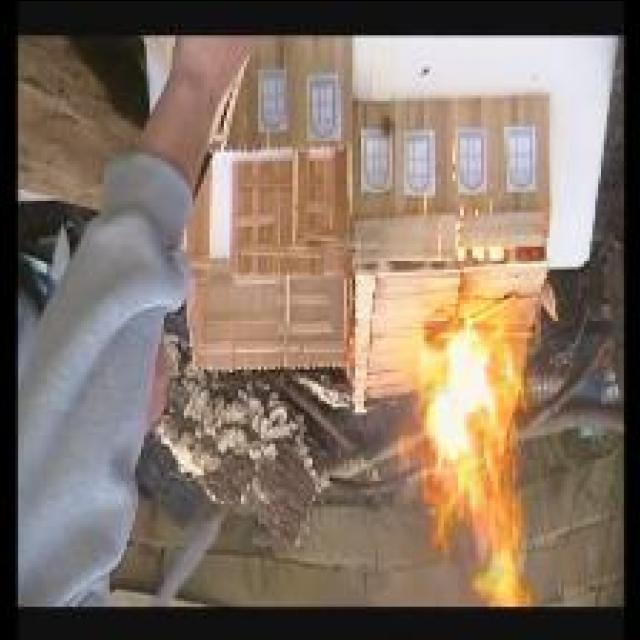Fire: (396, 310, 533, 604)
